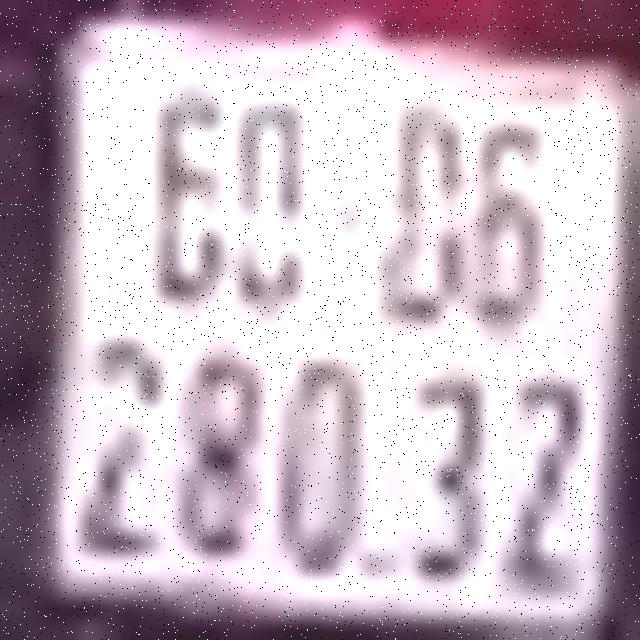0: (277, 350, 364, 577), (233, 95, 309, 311)
2: (73, 331, 167, 559), (508, 375, 585, 592)
3: (412, 370, 486, 582)
6: (474, 118, 547, 330), (154, 90, 224, 303)
8: (178, 347, 262, 559)
D: (383, 105, 464, 328)
